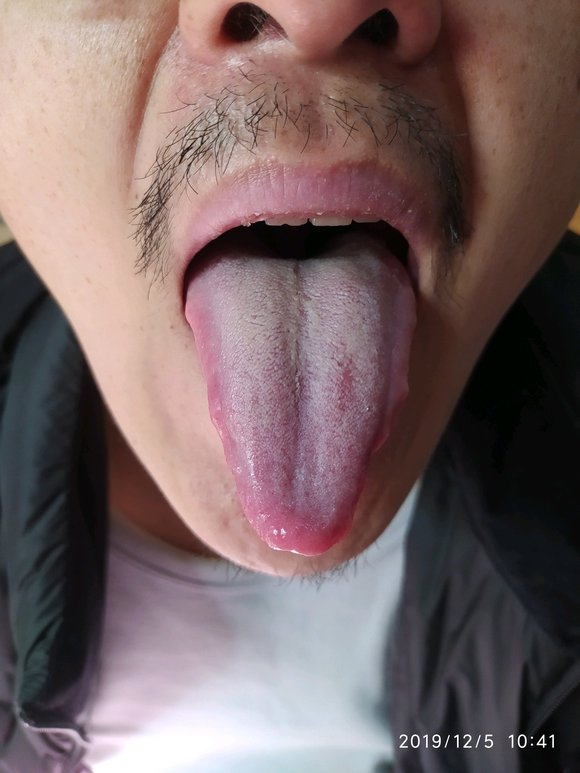baitaishe: (185, 250, 416, 556)
botaishe: (323, 348, 362, 416)
chihenshe: (188, 300, 240, 473)
hongshe: (185, 251, 416, 557)
liewenshe: (287, 258, 313, 501)
